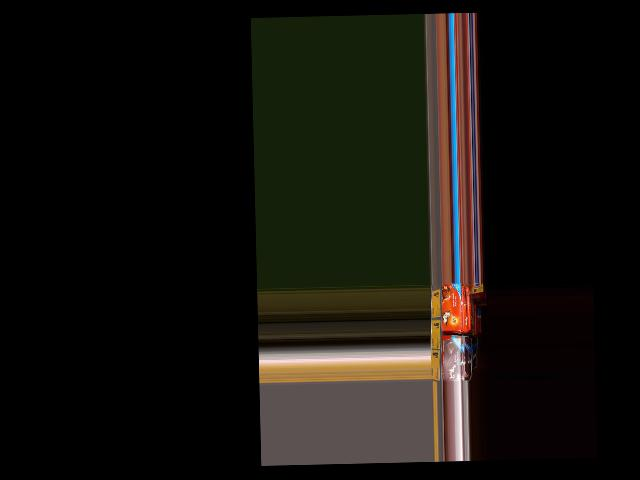chocolate: (437, 339, 464, 382)
